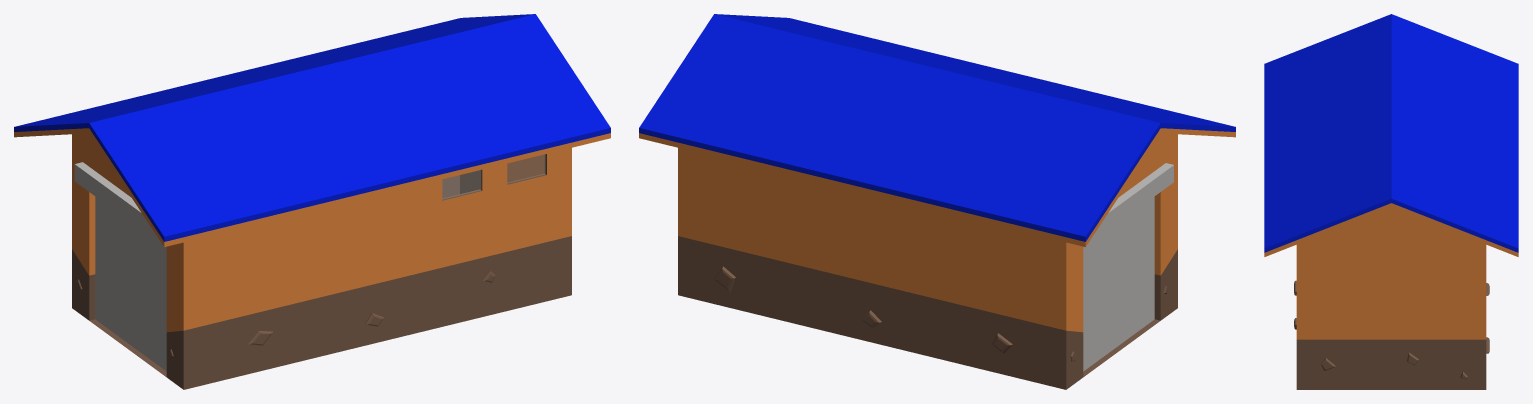
Rendered from Garage 2.fbx.
3 views of the same model, side by side, from view 1: azimuth 30°, elevation 25°; view 2: azimuth 150°, elevation 25°; view 3: azimuth 270°, elevation 25° (orthographic). The views are drawn at different scales.
Parts seen in each view (by area): view 1: Garage 2; view 2: Garage 2; view 3: Garage 2.
Part boxes in pixels (x1,y1,x2,y2): Garage 2: (14,14,610,389); Garage 2: (639,14,1235,389); Garage 2: (1264,14,1518,389).
Size of the model in its own units: 2247 by 1132 by 1309.
